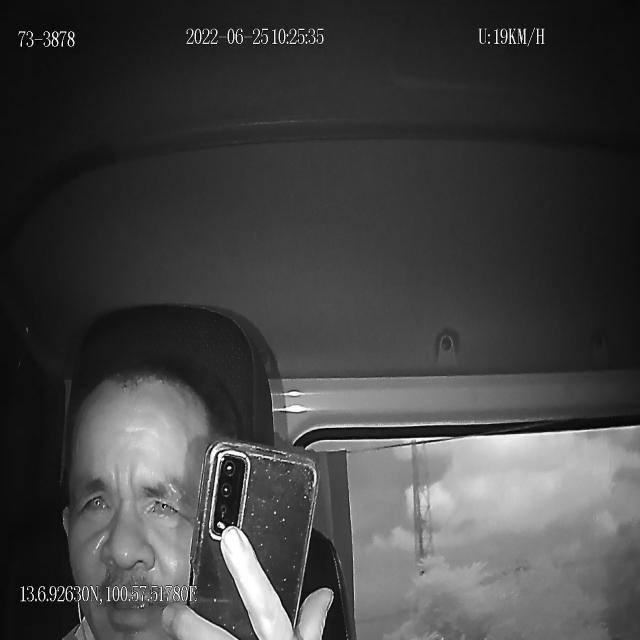phone: (186, 439, 318, 640)
